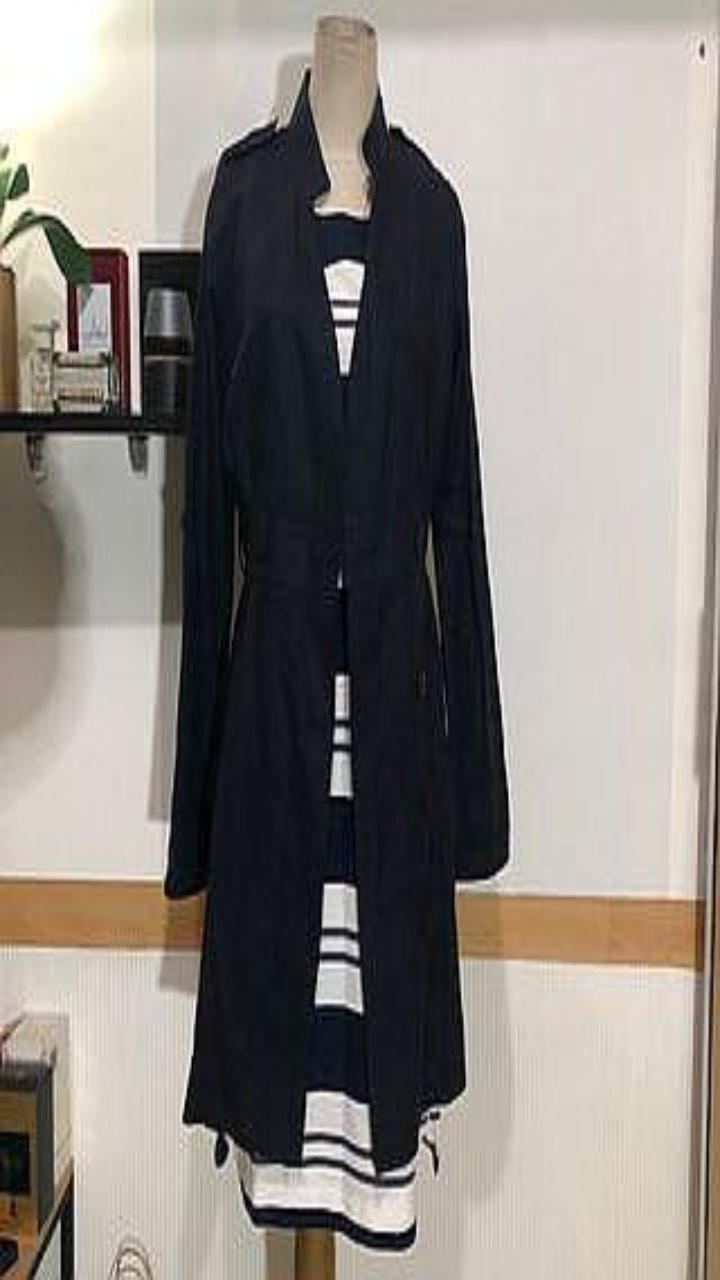Coat: (164, 69, 508, 1171)
Dresses: (234, 569, 417, 1249)
